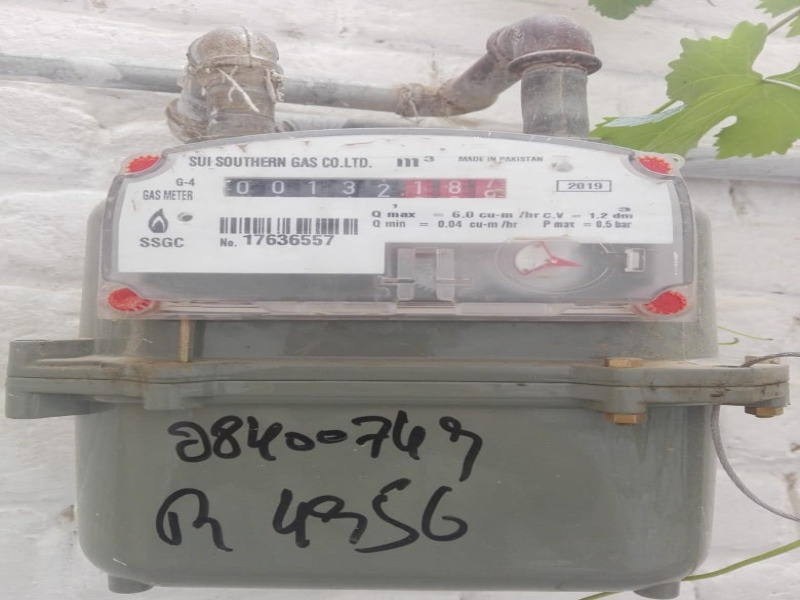ssgc: (221, 172, 507, 203)
